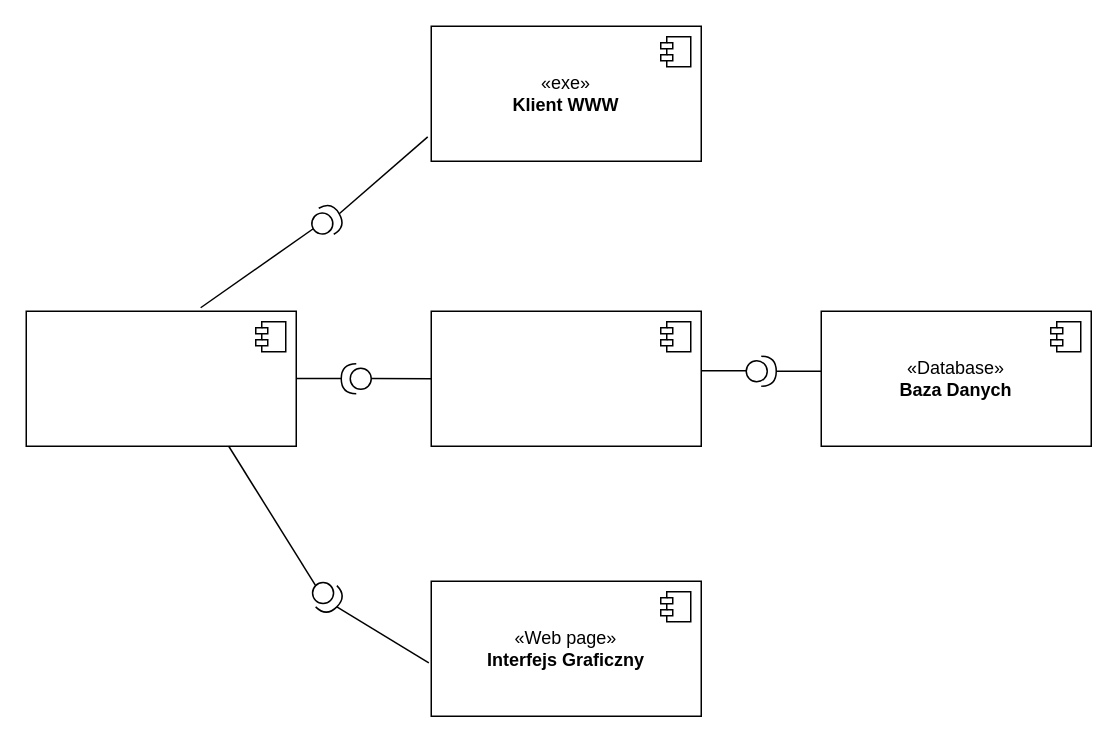
This 1118x743 diagram has some shape labels left out. The shapes that lost their labels are listed below. From the top down, each one's box as (x1, y1, x2, y2) in pixels, then its label:
(25, 310, 296, 446): «exe» Serwer WWW
(430, 310, 701, 446): «exe» Database Engine
